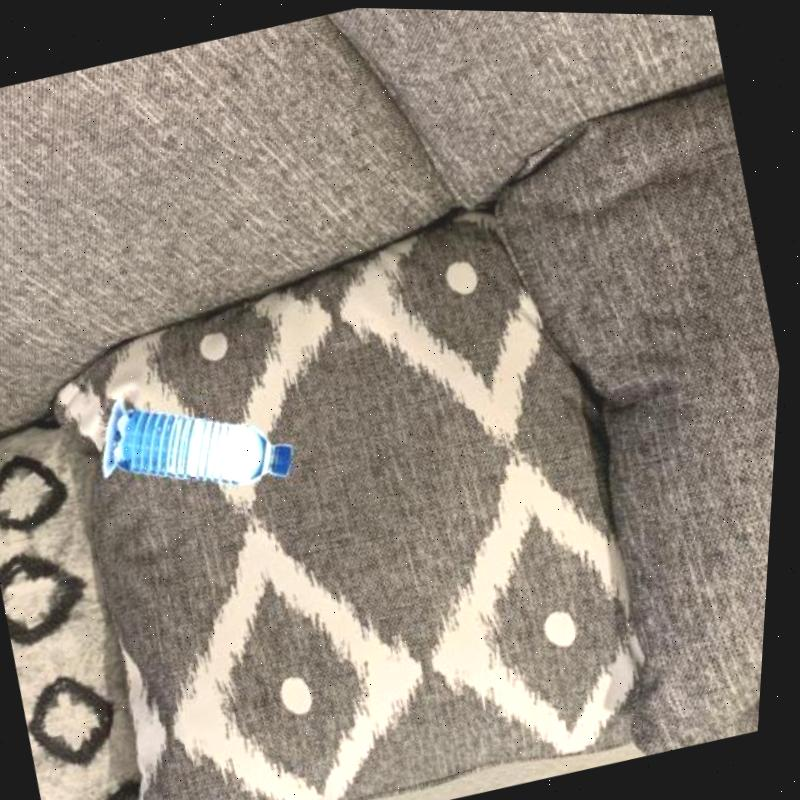botella: (107, 370, 309, 513)
